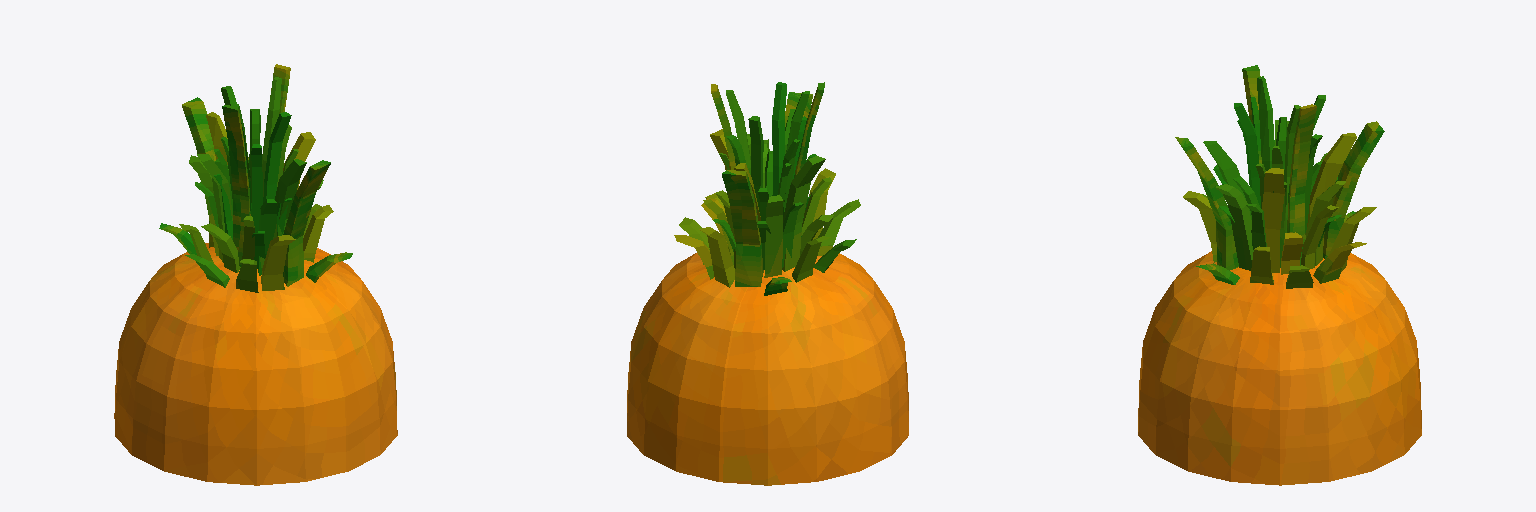
3 renders of one model, left to right at view 1: azimuth 30°, elevation 25°; view 2: azimuth 150°, elevation 25°; view 3: azimuth 270°, elevation 25°, orthographic.
Visible parts, largest first — view 1: Pineapple; view 2: Pineapple; view 3: Pineapple.
Boxes of the visible parts, <box> form: Pineapple: <box>114,64,397,485</box>; Pineapple: <box>627,82,908,485</box>; Pineapple: <box>1138,65,1421,485</box>.
Size of the model in its own units: 2.12 by 2.75 by 2.09.
2 materials, 1 textured.